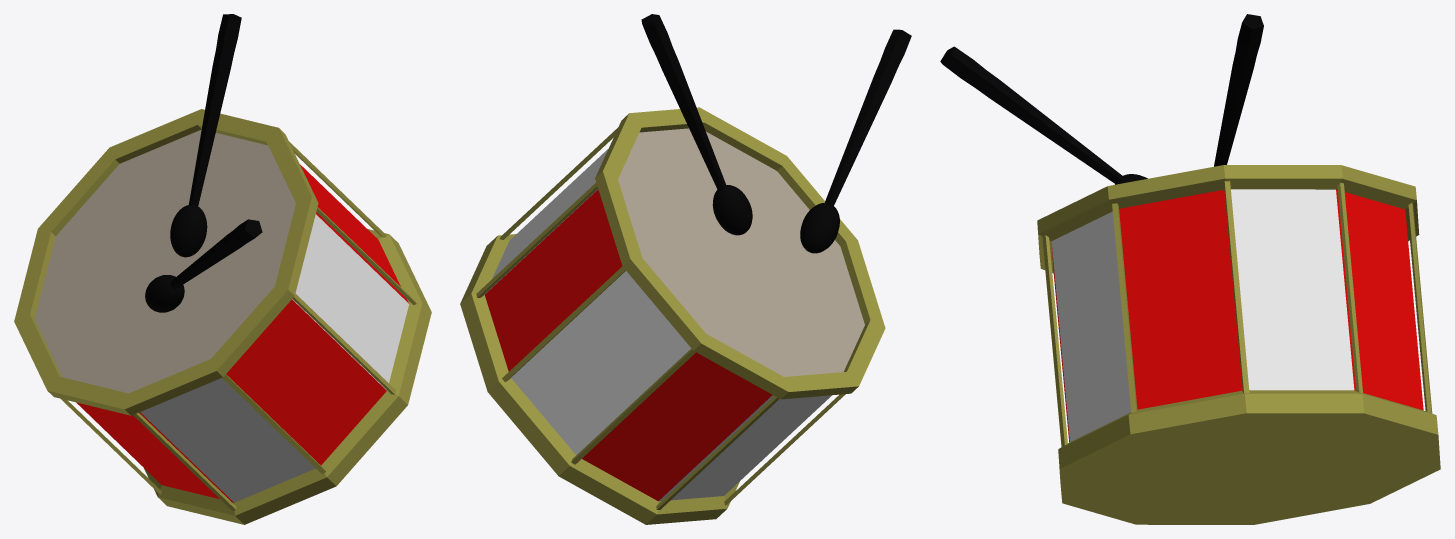
The model's file is ObjectDrum.fbx.
The picture shows the model from 3 angles, left to right: view 1: azimuth 30°, elevation 25°; view 2: azimuth 150°, elevation 25°; view 3: azimuth 270°, elevation 25°; orthographic projection. The views are drawn at different scales.
Parts seen in each view (by area): view 1: pCube39; view 2: pCube39; view 3: pCube39.
Part boxes in pixels (x1,y1,x2,y2): pCube39: [14, 14, 431, 524]; pCube39: [460, 14, 911, 524]; pCube39: [940, 14, 1440, 524].
Bounding box in the file's own units: 1.56 × 1.99 × 1.66.
